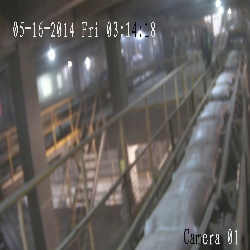cementbag: (144, 171, 214, 233), (173, 144, 219, 175), (134, 232, 197, 250), (188, 120, 222, 146), (197, 101, 229, 121), (210, 83, 232, 99), (215, 71, 235, 83)
